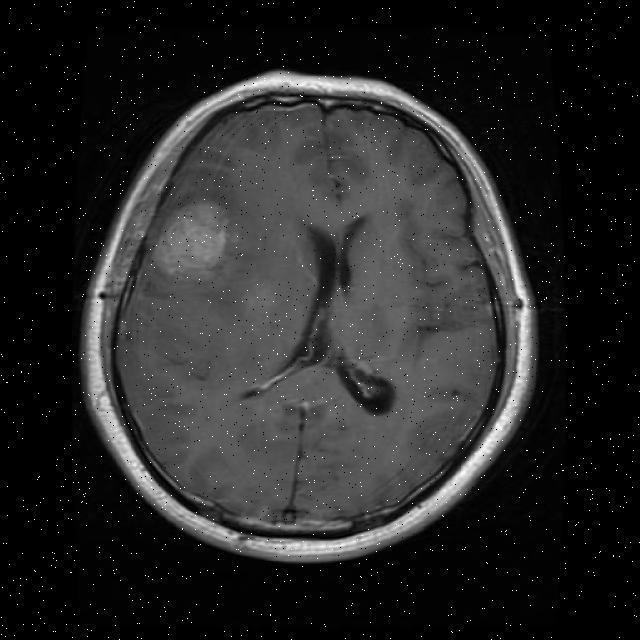Meningioma: (157, 204, 226, 280)
